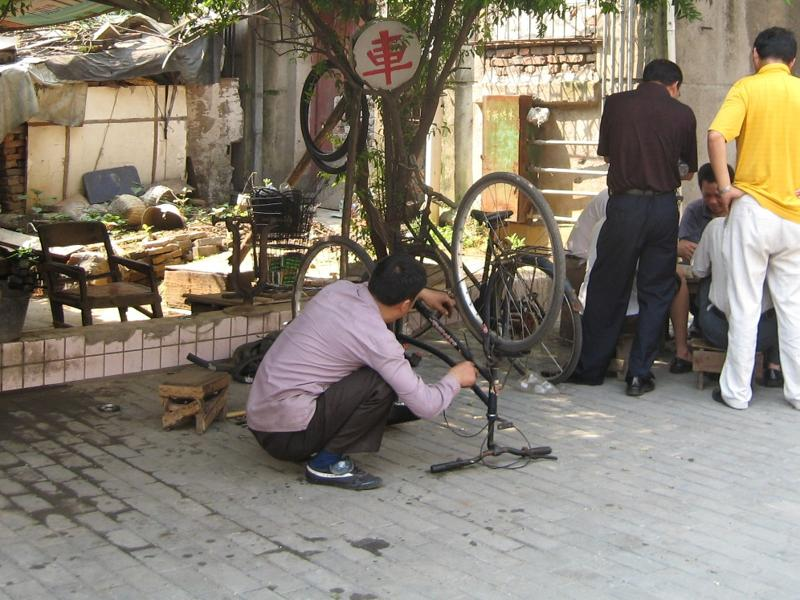person: (247, 254, 480, 494)
